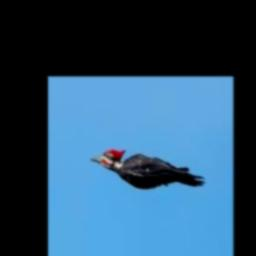Woodpecker: (91, 148, 206, 189)
